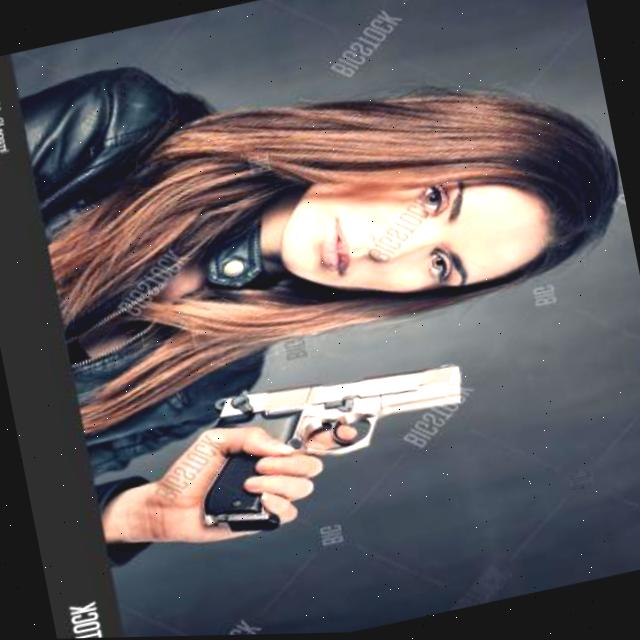pistol: (188, 361, 477, 544)
